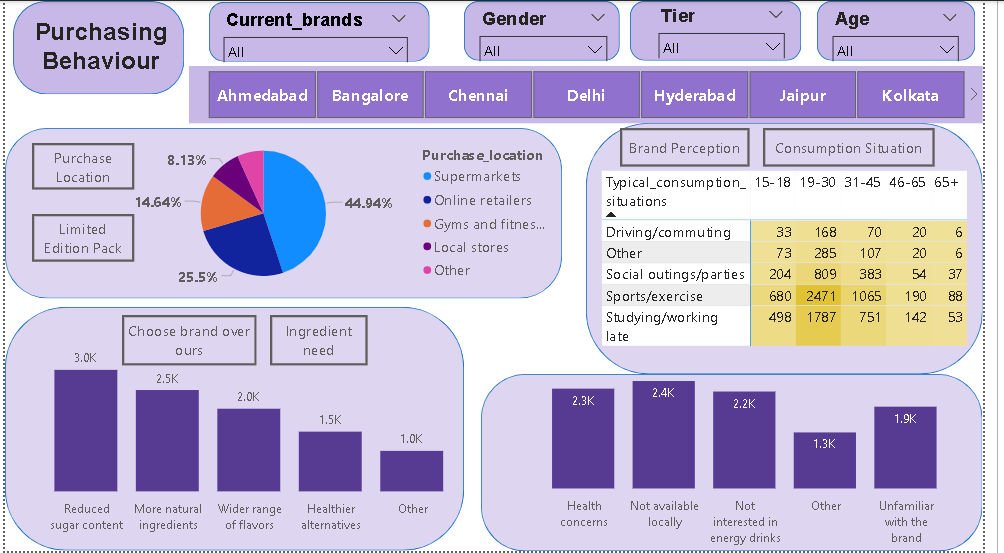

Layout of this report page (visuals, bound fields, positions):
{"tool":"powerbi","page":{"name":"Purchasing  Behaviour","canvas":[1280,720],"ordinal":1},"visuals":[{"type":"shape","box":[623.6,488.2,656.4,232.2],"z":0},{"type":"shape","box":[760.6,159.3,519.4,328.9],"z":1000},{"type":"shape","box":[0,166.7,729.3,223.3],"z":2000},{"type":"shape","box":[0,401.1,601,318.9],"z":3000},{"type":"shape","box":[1062.7,0,207.1,78.1],"z":4000},{"type":"shape","box":[818.2,0,224.1,78.1],"z":5000},{"type":"shape","box":[601,0,203.7,78.1],"z":6000},{"type":"shape","box":[266.5,1.7,288.6,78.1],"z":7000},{"type":"shape","box":[10.2,0,224.1,122.2],"z":8000},{"type":"textbox","box":[22.1,15.3,207.1,90],"z":9000},{"type":"pivotTable","fields":{"Columns":["dim_repondents.Age"],"Rows":["fact_survey_responses.Typical_consumption_situations"],"Values":["Measuretable.Respondents"]},"box":[776.9,217.3,503.1,241.1],"z":11000},{"type":"slicer","fields":{"Values":["dim_cities.City"]},"box":[241.1,84.9,1038.9,74.7],"z":12000},{"type":"slicer","fields":{"Values":["dim_repondents.Gender"]},"box":[611.1,3.4,186.7,74.7],"z":13000},{"type":"slicer","fields":{"Values":["fact_survey_responses.Current_brands"]},"box":[276.7,5.1,261.4,74.7],"z":14000},{"type":"slicer","fields":{"Values":["dim_repondents.Age"]},"box":[1072.9,3.4,185,74.7],"z":15000},{"type":"slicer","fields":{"Values":["dim_cities.Tier"]},"box":[845.4,0,185,74.7],"z":16000},{"type":"pieChart","fields":{"Y":["Measuretable.Total_People"],"Category":["fact_survey_responses.Purchase_location"]},"box":[125,166.7,604.3,223.3],"z":17000},{"type":"columnChart","fields":{"Category":["fact_survey_responses.Improvements_desired"],"Y":["Measuretable.Respondents"]},"box":[0,443.9,624.2,259.2],"z":19000},{"type":"actionButton","title":"Customer Choose brand over ours","box":[152.8,411.4,176.3,66.1],"z":20000},{"type":"actionButton","box":[346.8,411.4,127.8,66.1],"z":21000},{"type":"actionButton","box":[35.7,186,134,61],"z":22000},{"type":"actionButton","box":[35.7,278.3,134,62.5],"z":23000},{"type":"actionButton","box":[805.2,166.7,169.7,50.6],"z":25000},{"type":"actionButton","box":[992.7,166.7,224.7,50.6],"z":26000},{"type":"columnChart","fields":{"Category":["fact_survey_responses.Reasons_preventing_trying"],"Y":["Measuretable.Respondents"]},"box":[651.9,458.4,617.7,262],"z":27000}]}

Visuals, with their boxes in screenshot pixels (x1, y1, x2, y2), scaled from the page's 1280x720 canvas onto the 1004x553 screenshot:
shape: bbox(489, 375, 1003, 552)
shape: bbox(597, 122, 1003, 375)
shape: bbox(0, 128, 572, 300)
shape: bbox(0, 308, 471, 552)
shape: bbox(834, 0, 996, 60)
shape: bbox(642, 0, 818, 60)
shape: bbox(471, 0, 631, 60)
shape: bbox(209, 1, 435, 61)
shape: bbox(8, 0, 184, 94)
textbox: bbox(17, 12, 180, 81)
pivotTable - dim_repondents.Age x fact_survey_responses.Typical_consumption_situations: bbox(609, 167, 1003, 352)
slicer - dim_cities.City: bbox(189, 65, 1003, 123)
slicer - dim_repondents.Gender: bbox(479, 3, 626, 60)
slicer - fact_survey_responses.Current_brands: bbox(217, 4, 422, 61)
slicer - dim_repondents.Age: bbox(842, 3, 987, 60)
slicer - dim_cities.Tier: bbox(663, 0, 808, 57)
pieChart - Measuretable.Total_People x fact_survey_responses.Purchase_location: bbox(98, 128, 572, 300)
columnChart - fact_survey_responses.Improvements_desired x Measuretable.Respondents: bbox(0, 341, 490, 540)
"Customer Choose brand over ours" actionButton: bbox(120, 316, 258, 367)
actionButton: bbox(272, 316, 372, 367)
actionButton: bbox(28, 143, 133, 190)
actionButton: bbox(28, 214, 133, 262)
actionButton: bbox(632, 128, 765, 167)
actionButton: bbox(779, 128, 955, 167)
columnChart - fact_survey_responses.Reasons_preventing_trying x Measuretable.Respondents: bbox(511, 352, 996, 552)
